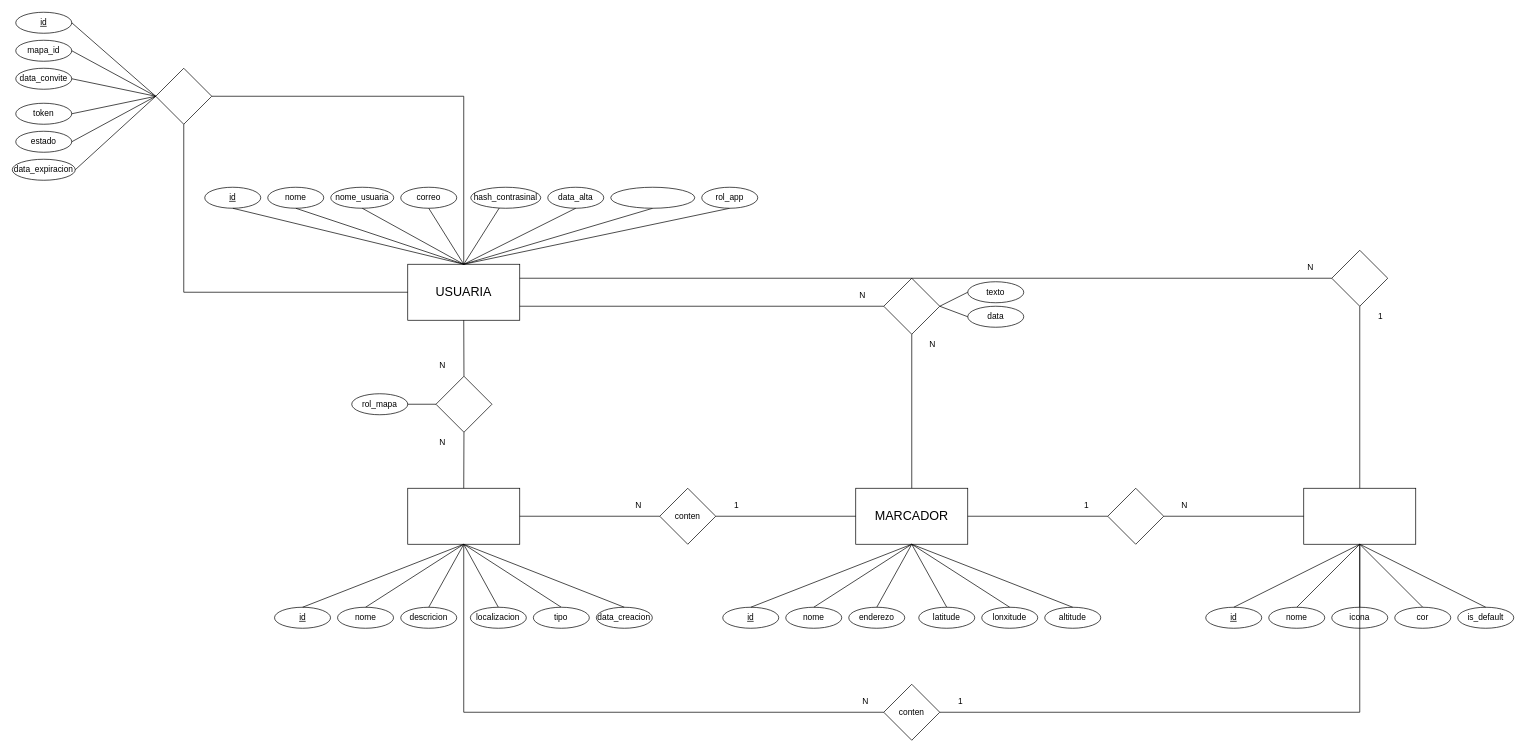
The diagram is 1526 pixels wide and 753 high, and some of its shapes have lost their labels. Here are the shapes that lost their labels. From the top down, the box of each, then its label:
(155, 68, 212, 124): convida
(610, 187, 695, 208): data_ultimo_acceso
(1331, 250, 1388, 306): crea
(883, 278, 940, 334): anota
(435, 376, 492, 432): colabora
(407, 488, 520, 544): MAPA
(1107, 488, 1164, 544): agrupa
(1303, 488, 1416, 544): CATEGORIA
